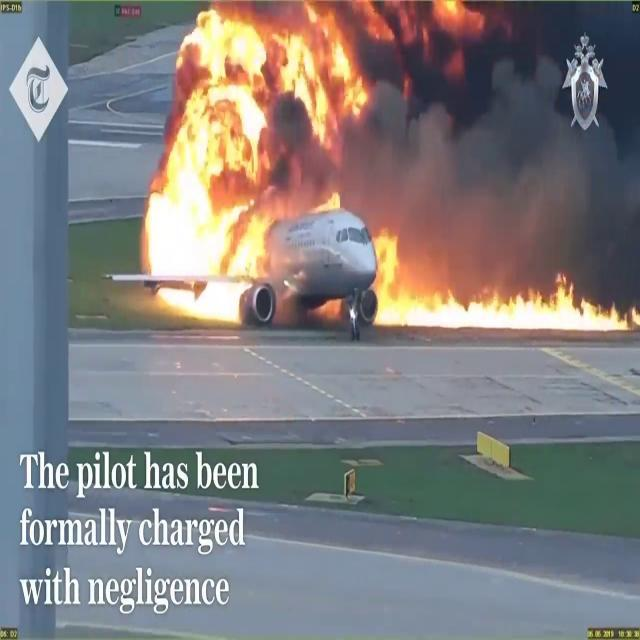Fire: (126, 0, 322, 330), (356, 240, 640, 336)
Smoke: (337, 1, 640, 244)
